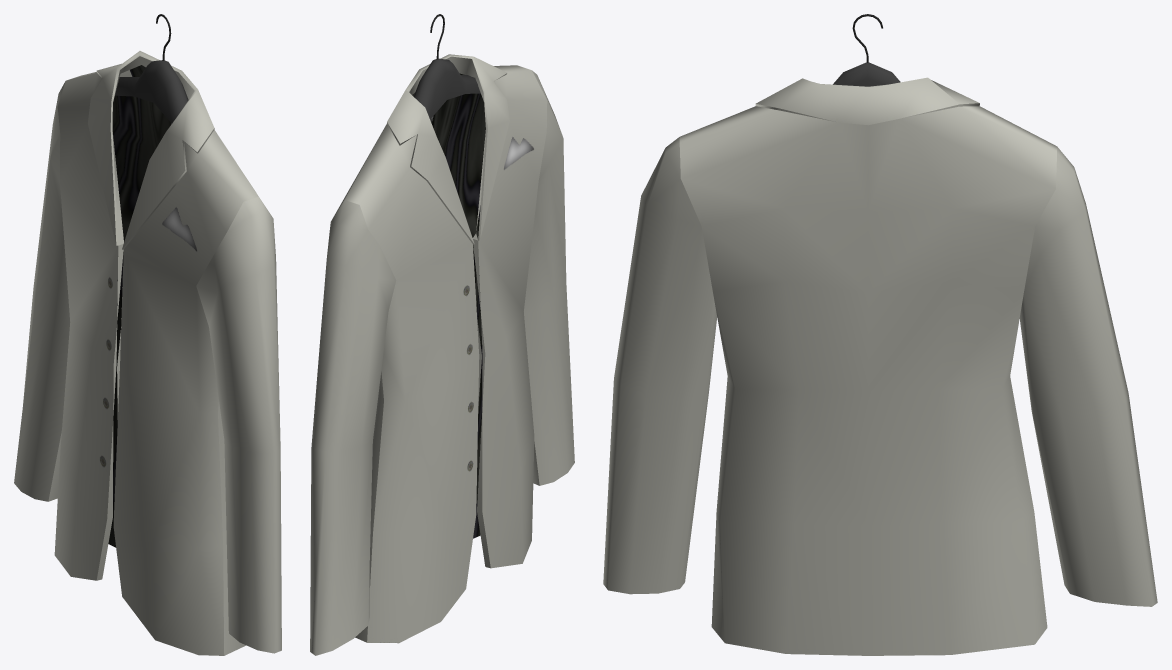
Rendered from suit2.dae.
The picture shows the model from 3 angles, left to right: view 1: azimuth 30°, elevation 25°; view 2: azimuth 150°, elevation 25°; view 3: azimuth 270°, elevation 25°; orthographic projection. The views are drawn at different scales.
Visible parts, largest first — view 1: _3DGeom_3, _3DGeom_3_Defintion_2 (×6), _3DGeom_1; view 2: _3DGeom_3, _3DGeom_3_Defintion_2 (×6), _3DGeom_1; view 3: _3DGeom_3, _3DGeom_3_Defintion_2 (×3), _3DGeom_1.
Boxes of the visible parts, x1,y1,x2,y2 form: _3DGeom_3: (54, 70, 258, 655); _3DGeom_3_Defintion_2 (×6): (14, 51, 281, 653); _3DGeom_1: (115, 60, 188, 123); _3DGeom_3: (332, 65, 547, 643); _3DGeom_3_Defintion_2 (×6): (310, 54, 574, 655); _3DGeom_1: (413, 58, 480, 119); _3DGeom_3: (679, 106, 1057, 655); _3DGeom_3_Defintion_2 (×3): (603, 77, 1157, 606); _3DGeom_1: (833, 62, 900, 86).
Size of the model in its own units: 2.52 by 13.37 by 16.58.
Materials: 3 (1 with a texture image).
